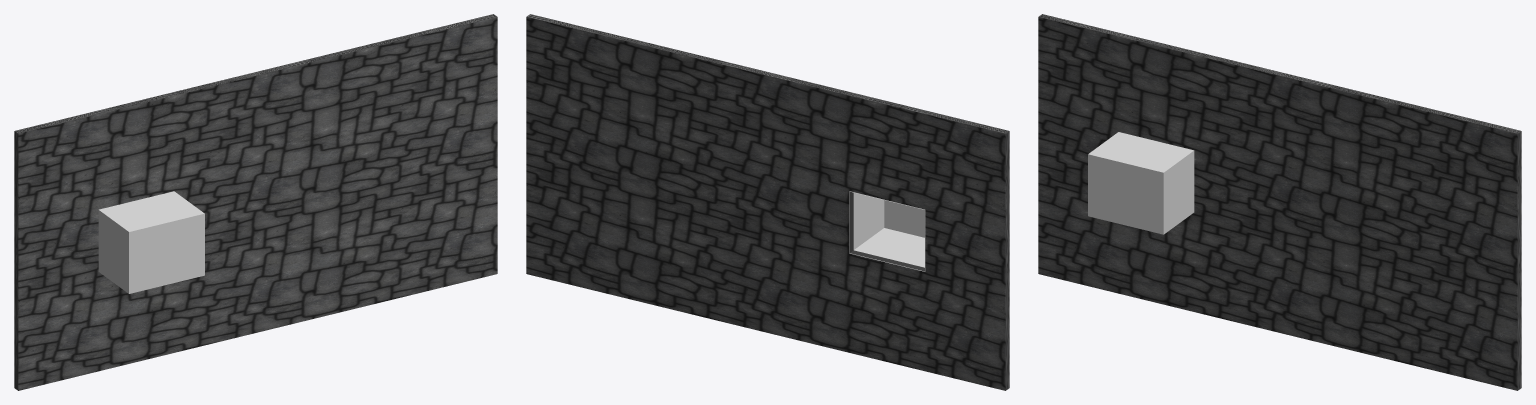
The model's file is MurPuzzle.fbx.
3 renders of one model, left to right at view 1: azimuth 30°, elevation 25°; view 2: azimuth 150°, elevation 25°; view 3: azimuth 330°, elevation 25°, orthographic.
Parts seen in each view (by area): view 1: Cube.008, Cube.009; view 2: Cube.008, Cube.009; view 3: Cube.008, Cube.009.
Part boxes in pixels (<box>): Cube.008: <box>14,14,497,390</box>; Cube.009: <box>98,191,204,293</box>; Cube.008: <box>526,14,1009,390</box>; Cube.009: <box>849,191,925,271</box>; Cube.008: <box>1038,14,1521,390</box>; Cube.009: <box>1088,132,1194,234</box>.
Bounding box in the file's own units: 4993 × 2560 × 630.
